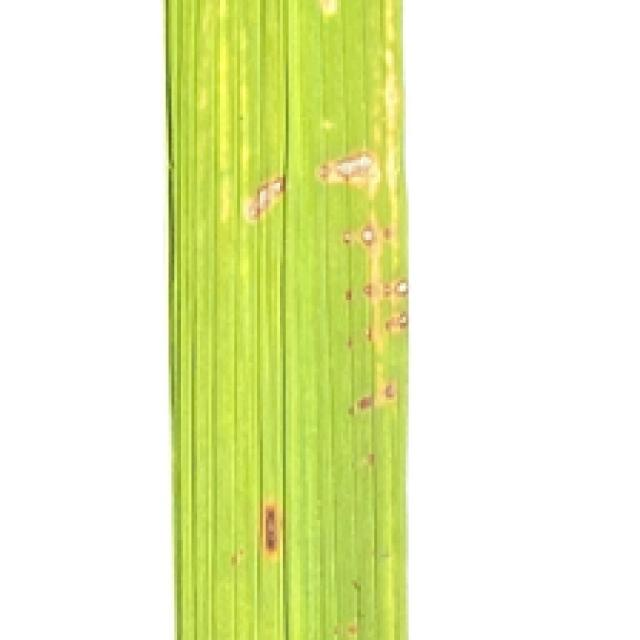Rice___Brown_Spot: (162, 1, 408, 637)
